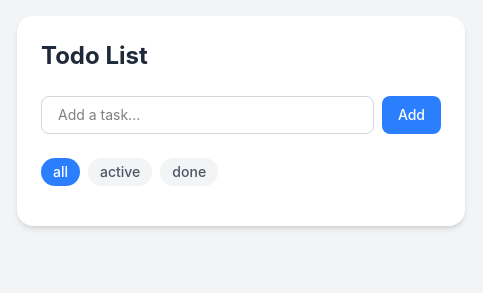
Test: App › adds a new todo
The image size is (483, 293).
Type "buy milk" into the field with placeholder "Add a task..." at (207, 115), box top-left (41, 96), bottom-right (374, 134)
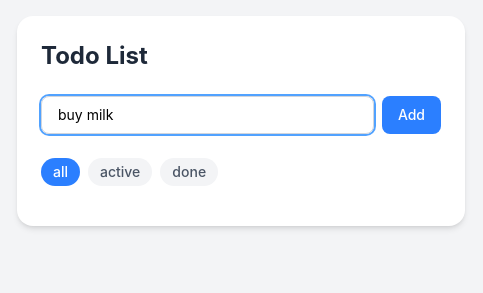
Click the button "Add" at (411, 115), box top-left (382, 96), bottom-right (441, 134)
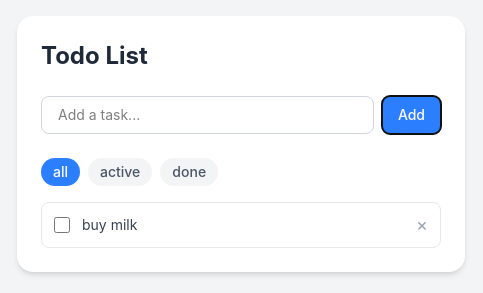
Expected: the text "buy milk" is shown, top-left (82, 216), bottom-right (137, 233)
